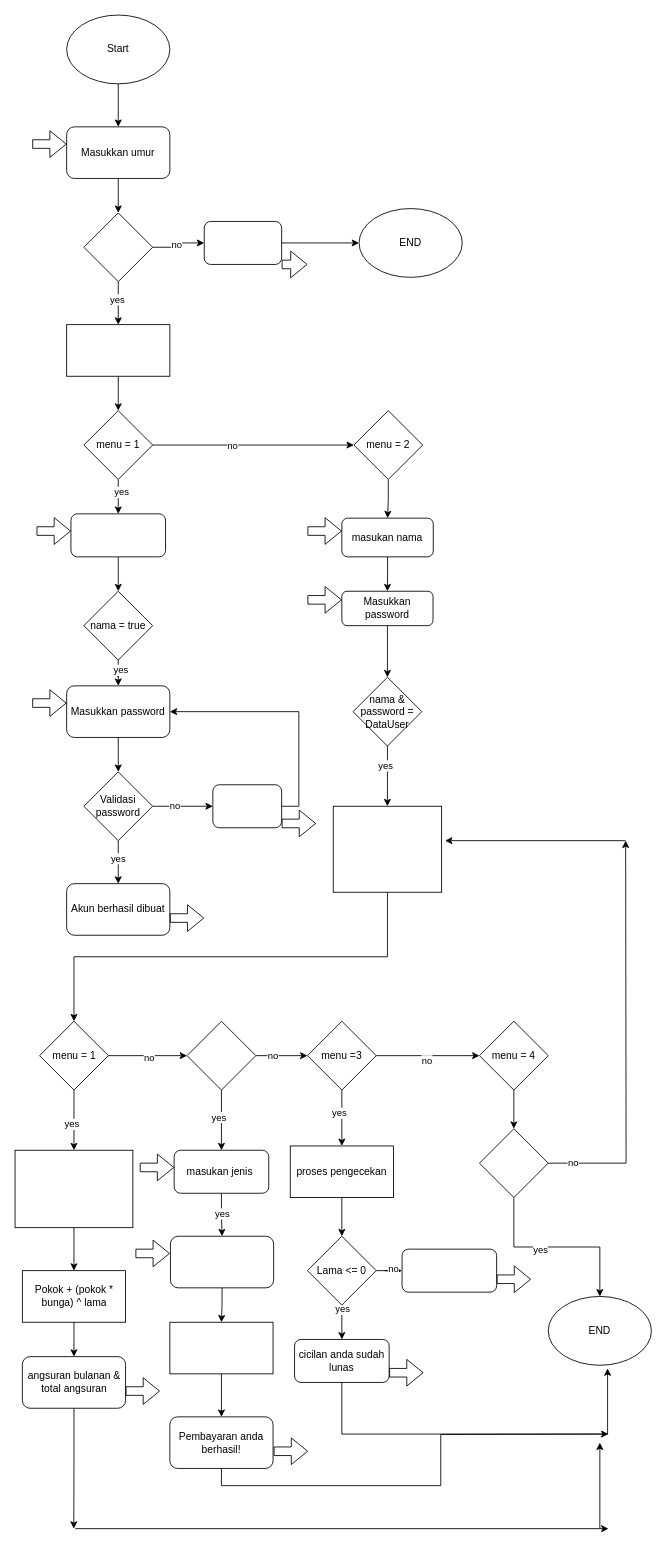
Image size: 667x1551. Some labels were removed from this diagram. The centre of each missing label's shape, as x and y in pixels:
"18 < umur < 66" belongs at [118,247].
"apakah yakin" belongs at [513,1163].
"masukan lama bulan" belongs at [222,1261].
"Masukkan nama" belongs at [118,535].
"menampilkan sisa cicilan" belongs at [449,1270].
"Menu 1. Buat akun 2. Login 3. Exit" belongs at [118,350].
"menu A. 5JT, 2%, 5BLN B. 10JT, 4%, 10 BLN C. 20JT, 6%, 12 BULAN" belongs at [73,1188].
"Menu: 1. Buat Pinjaman 2. Bayar cicilan 3. Informasi cicilan 4. Exit" belongs at [387,848].
"menu=2" belongs at [221,1055].
"Passwrord lemah" belongs at [247,806].
"Proses pengecekan dan perhitungan pembayaran" belongs at [221,1347].
"Umur tidak mencukupi" belongs at [242,242].
